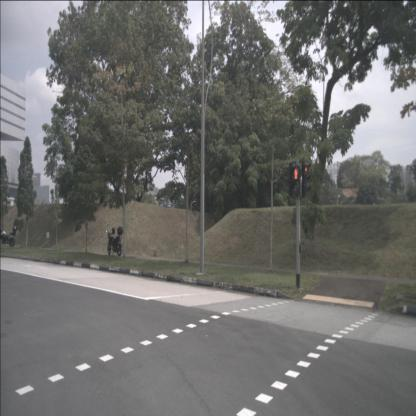vehicle-motorcycle: (106, 227, 123, 256), (0, 226, 17, 247)
